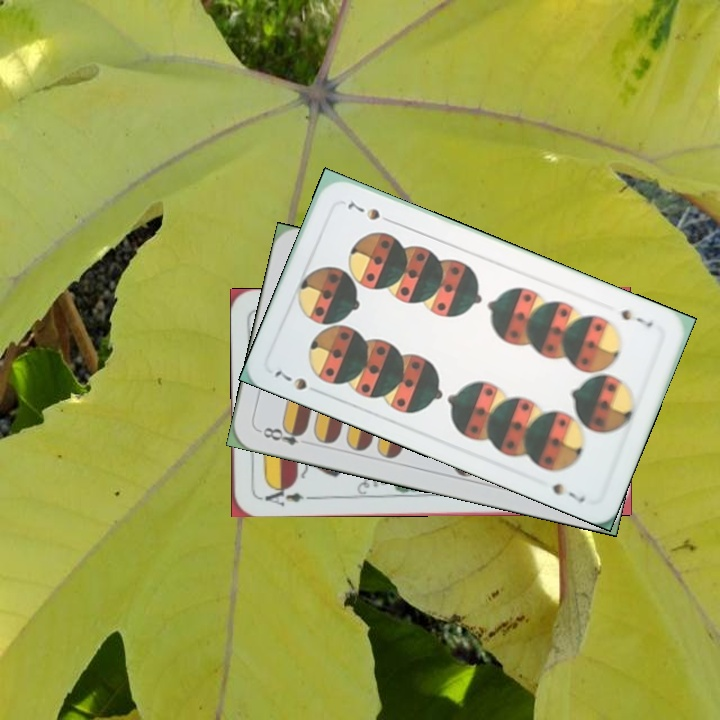E8: (255, 422, 308, 448)
EA: (261, 481, 306, 508)
S7: (270, 366, 325, 397), (613, 305, 656, 330)
